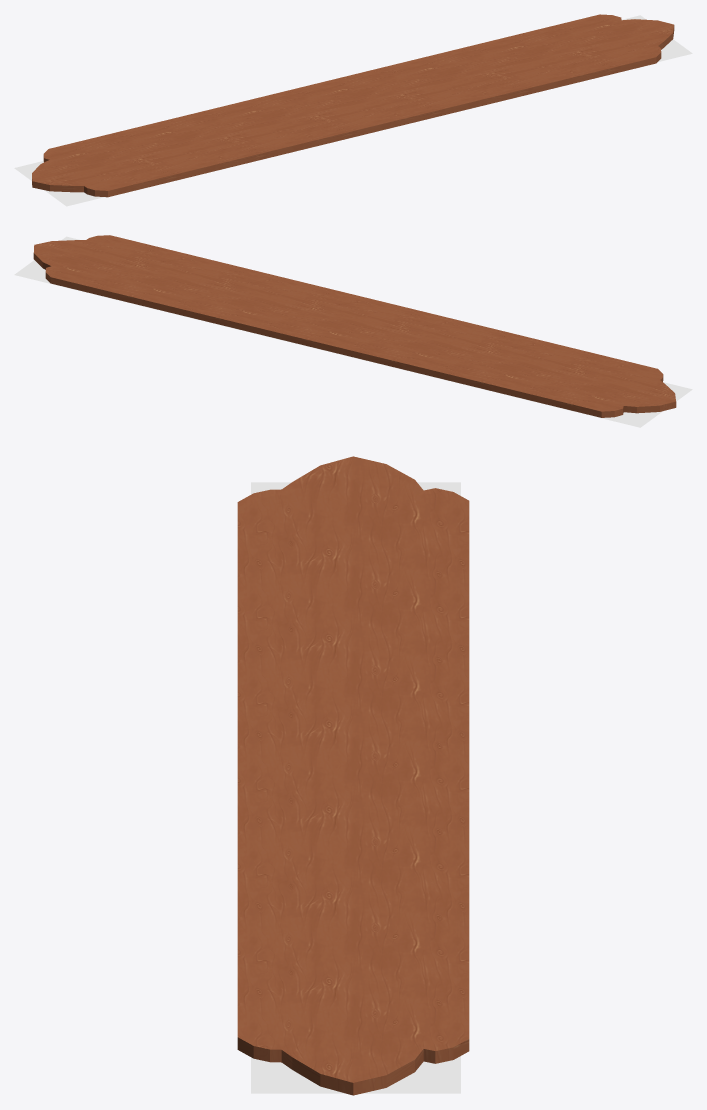
Rendered from Sign_D.fbx.
3 views of the same model, one above another, from view 1: azimuth 30°, elevation 25°; view 2: azimuth 150°, elevation 25°; view 3: azimuth 270°, elevation 25° (orthographic). The views are drawn at different scales.
Visible parts, largest first — view 1: Sign_D; view 2: Sign_D; view 3: Sign_D.
Part boxes in pixels (x1,y1,x2,y2): Sign_D: (14, 14, 692, 206); Sign_D: (14, 235, 692, 427); Sign_D: (237, 456, 469, 1095).
Bounding box in the file's own units: 730 × 10.14 × 114.
Materials: 3 (3 with a texture image).
